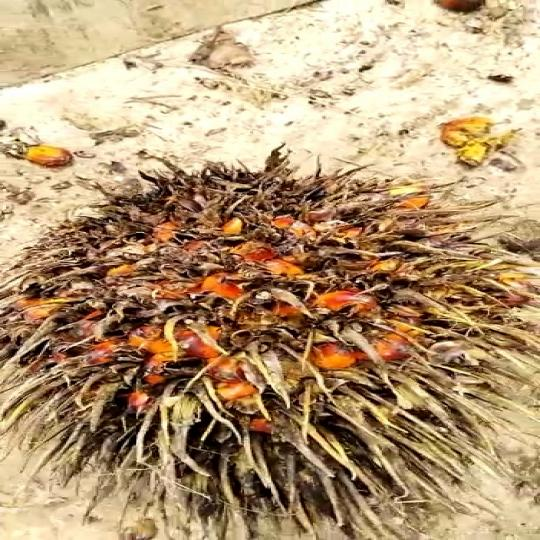terlalu masak: (0, 145, 540, 540)
